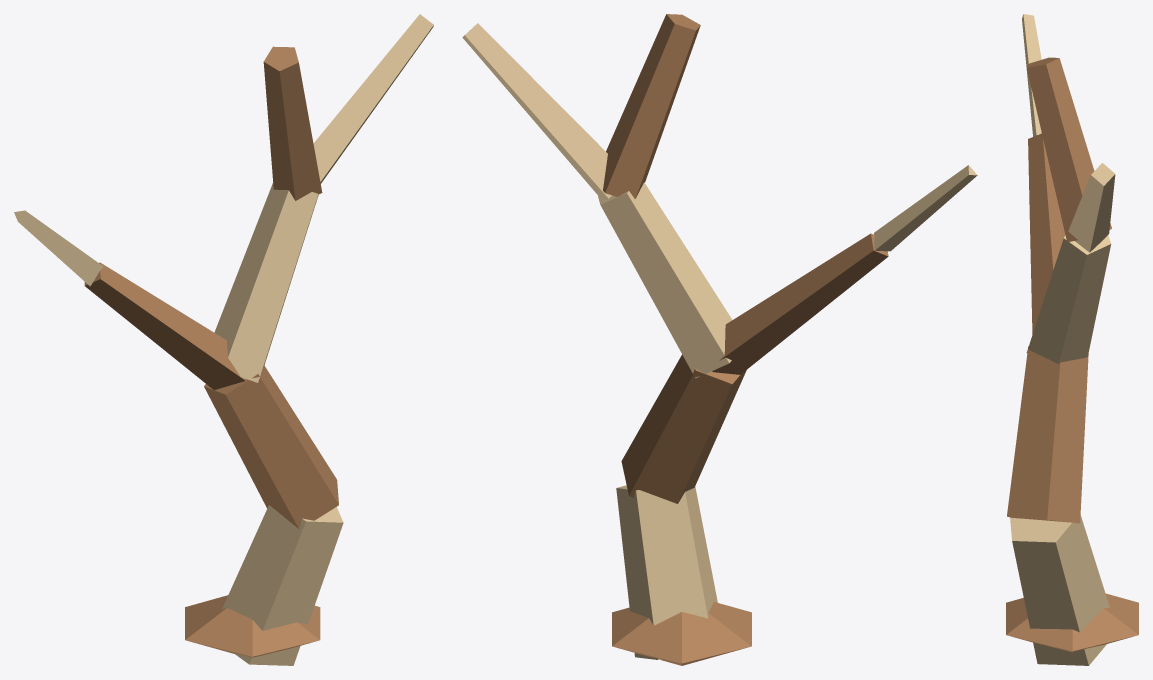
Rendered from deco_dry_branch.obj.
3 renders of one model, left to right at view 1: azimuth 30°, elevation 25°; view 2: azimuth 150°, elevation 25°; view 3: azimuth 270°, elevation 25°, orthographic. The views are drawn at different scales.
Parts seen in each view (by area): view 1: deco_dry_branch; view 2: deco_dry_branch; view 3: deco_dry_branch.
Boxes of the visible parts, x1,y1,x2,y2 form: deco_dry_branch: (14,14,433,665); deco_dry_branch: (462,14,977,665); deco_dry_branch: (1006,14,1138,665).
Bounding box in the file's own units: 0.0338 × 0.0434 × 0.00866.
1 material, 1 textured.
